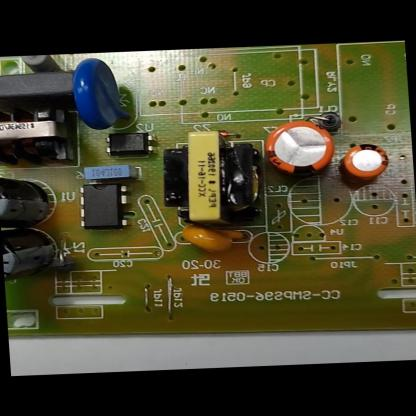Cap1: (263, 114, 336, 181)
Cap2: (338, 134, 397, 188)
Cap3: (0, 170, 56, 228)
Cap4: (1, 225, 62, 285)
MOSFET: (68, 175, 134, 234)
Mov: (59, 52, 130, 136)
Resistor: (19, 54, 56, 73)
Transformer: (157, 125, 260, 224), (0, 96, 71, 166)
